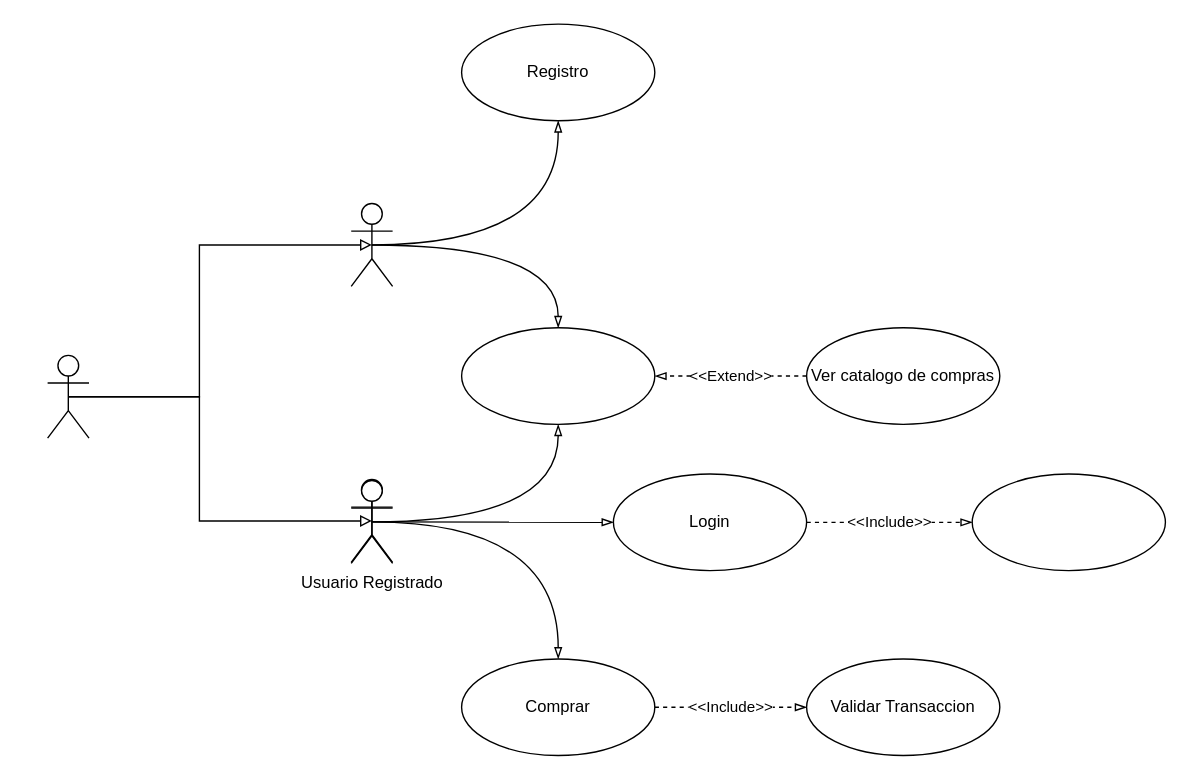
The diagram is 1190 pixels wide and 780 high, and some of its shapes have lost their labels. The centre of each missing label's shape, as x and y in pixels:
Cliente Web: the point at 67,396
Usuario Nuevo: the point at 371,244
Validar Usuario: the point at 1068,522
Visita web: the point at 557,375
